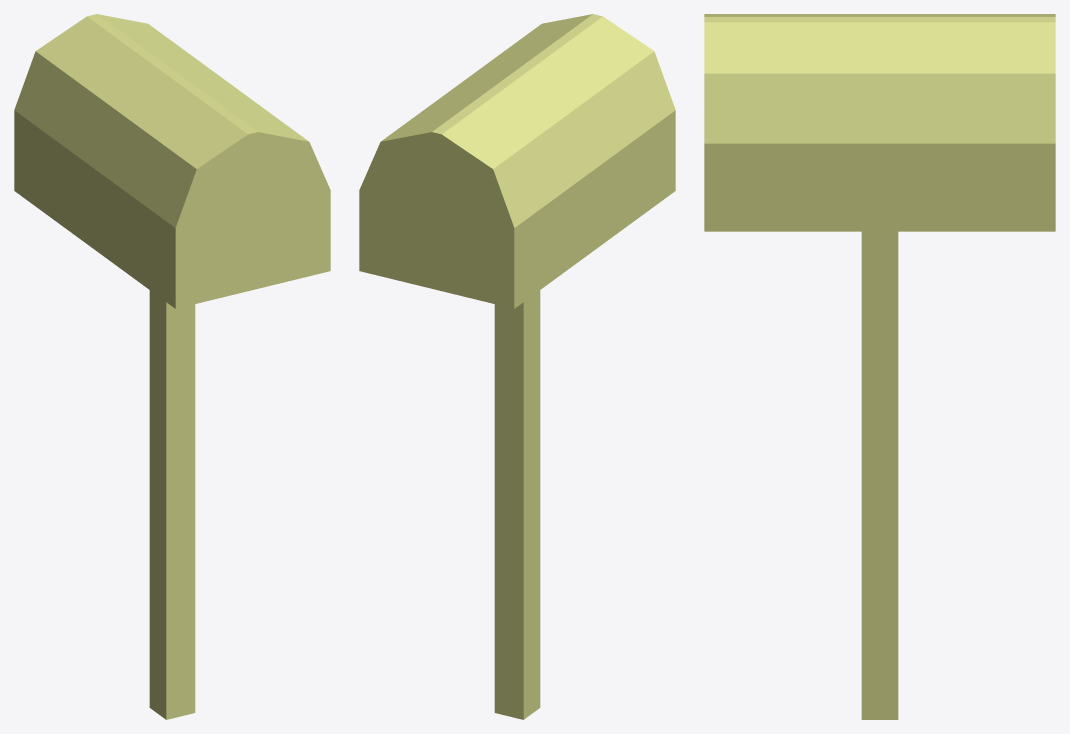
File: MailBox.fbx
The picture shows the model from 3 angles, left to right: view 1: azimuth 30°, elevation 25°; view 2: azimuth 150°, elevation 25°; view 3: azimuth 270°, elevation 25°; orthographic projection. The views are drawn at different scales.
Visible parts, largest first — view 1: Куб; view 2: Куб; view 3: Куб.
Part boxes in pixels (x1,y1,x2,y2): Куб: (14,14,330,719); Куб: (359,14,675,719); Куб: (704,14,1055,719).
Bounding box in the file's own units: 92.62 × 363 × 167.
